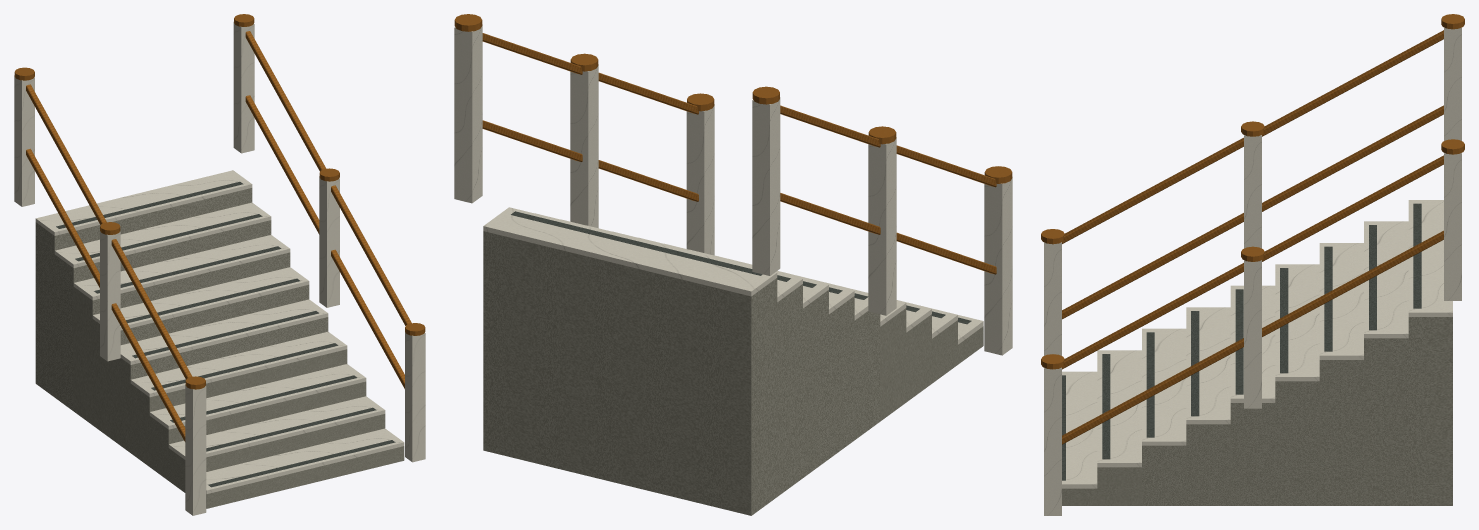
3 renders of one model, left to right at view 1: azimuth 30°, elevation 25°; view 2: azimuth 150°, elevation 25°; view 3: azimuth 270°, elevation 25°, orthographic. The views are drawn at different scales.
Parts seen in each view (by area): view 1: Stone stair tread and riser.008, Stone stair tread and riser.007, Stone stair tread and riser.006, Stone stair tread and riser.004, Stone stair tread and riser.005, Stone stair tread and riser.003, Replaceable marble tread, Replaceable marble tread.008, Replaceable marble tread.004, Replaceable marble tread.003, Stone stair tread and riser.002, Replaceable marble tread.001 (+25 smaller); view 2: Stone stair tread and riser.008, Replaceable marble tread.008, Stone stair tread and riser.007, Outside-route guard post.005, Outside-route guard post.002, Outside-route guard post, Outside-route guard post.001, Stone stair tread and riser.006, Outside-route guard post.004, Outside-route guard post.003, Stone stair tread and riser.005, Stone stair tread and riser.004 (+8 smaller); view 3: Stone stair tread and riser.008, Stone stair tread and riser.007, Stone stair tread and riser.006, Stone stair tread and riser.005, Stone stair tread and riser.004, Replaceable marble tread.002, Replaceable marble tread.001, Replaceable marble tread.006, Replaceable marble tread.005, Replaceable marble tread.003, Replaceable marble tread.007, Stone stair tread and riser.003 (+24 smaller).
Part boxes in pixels (left/top/right/bottom): Stone stair tread and riser.008: left=35, top=188, right=252, bottom=397; Stone stair tread and riser.007: left=54, top=220, right=271, bottom=410; Stone stair tread and riser.006: left=73, top=252, right=290, bottom=424; Stone stair tread and riser.004: left=111, top=317, right=328, bottom=452; Stone stair tread and riser.005: left=92, top=284, right=309, bottom=438; Stone stair tread and riser.003: left=130, top=349, right=347, bottom=466; Replaceable marble tread: left=206, top=428, right=404, bottom=493; Replaceable marble tread.008: left=35, top=170, right=252, bottom=235; Replaceable marble tread.004: left=120, top=299, right=328, bottom=364; Replaceable marble tread.003: left=130, top=331, right=347, bottom=397; Stone stair tread and riser.002: left=149, top=381, right=366, bottom=480; Replaceable marble tread.001: left=168, top=396, right=385, bottom=459; Stone stair tread and riser.008: left=483, top=231, right=777, bottom=515; Replaceable marble tread.008: left=483, top=207, right=777, bottom=296; Stone stair tread and riser.007: left=777, top=284, right=802, bottom=496; Outside-route guard post.005: left=454, top=24, right=482, bottom=203; Outside-route guard post.002: left=752, top=97, right=780, bottom=275; Outside-route guard post: left=984, top=177, right=1012, bottom=355; Outside-route guard post.001: left=868, top=137, right=896, bottom=315; Stone stair tread and riser.006: left=803, top=290, right=828, bottom=477; Outside-route guard post.004: left=570, top=64, right=598, bottom=228; Outside-route guard post.003: left=686, top=104, right=714, bottom=255; Stone stair tread and riser.005: left=829, top=296, right=854, bottom=458; Stone stair tread and riser.004: left=854, top=311, right=880, bottom=439; Stone stair tread and riser.008: left=1408, top=317, right=1452, bottom=505; Stone stair tread and riser.007: left=1364, top=338, right=1408, bottom=505; Stone stair tread and riser.006: left=1319, top=360, right=1363, bottom=505; Stone stair tread and riser.005: left=1275, top=381, right=1319, bottom=505; Stone stair tread and riser.004: left=1230, top=403, right=1275, bottom=505; Replaceable marble tread.002: left=1142, top=328, right=1186, bottom=445; Replaceable marble tread.001: left=1097, top=350, right=1141, bottom=467; Replaceable marble tread.006: left=1319, top=243, right=1363, bottom=359; Replaceable marble tread.005: left=1275, top=264, right=1319, bottom=381; Replaceable marble tread.003: left=1186, top=307, right=1230, bottom=424; Replaceable marble tread.007: left=1364, top=221, right=1408, bottom=338; Stone stair tread and riser.003: left=1186, top=424, right=1230, bottom=505.
Bounding box in the file's own units: 2.16 × 2.74 × 2.86.
4 materials, 4 textured.
